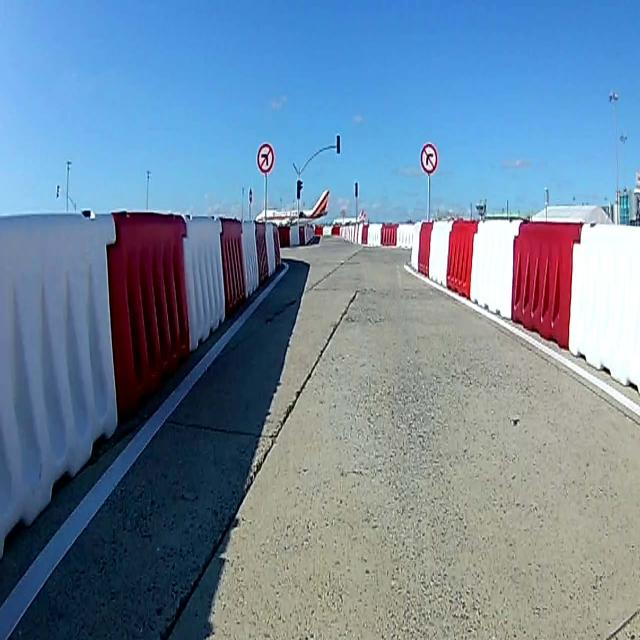sagadonulmez: (420, 142, 438, 170)
soladonulmez: (257, 143, 274, 172)
